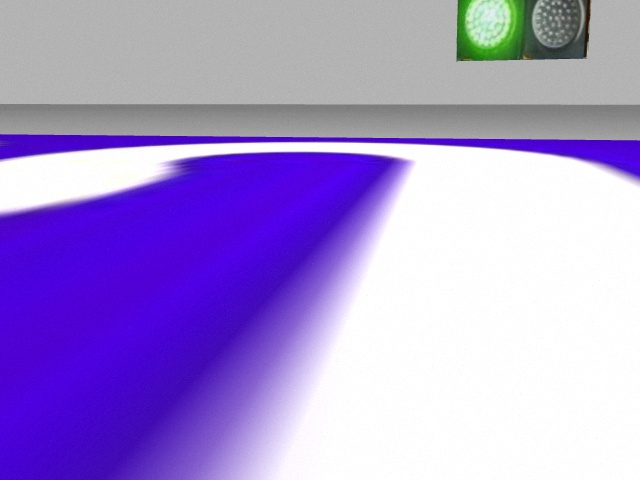green: (456, 1, 523, 60)
